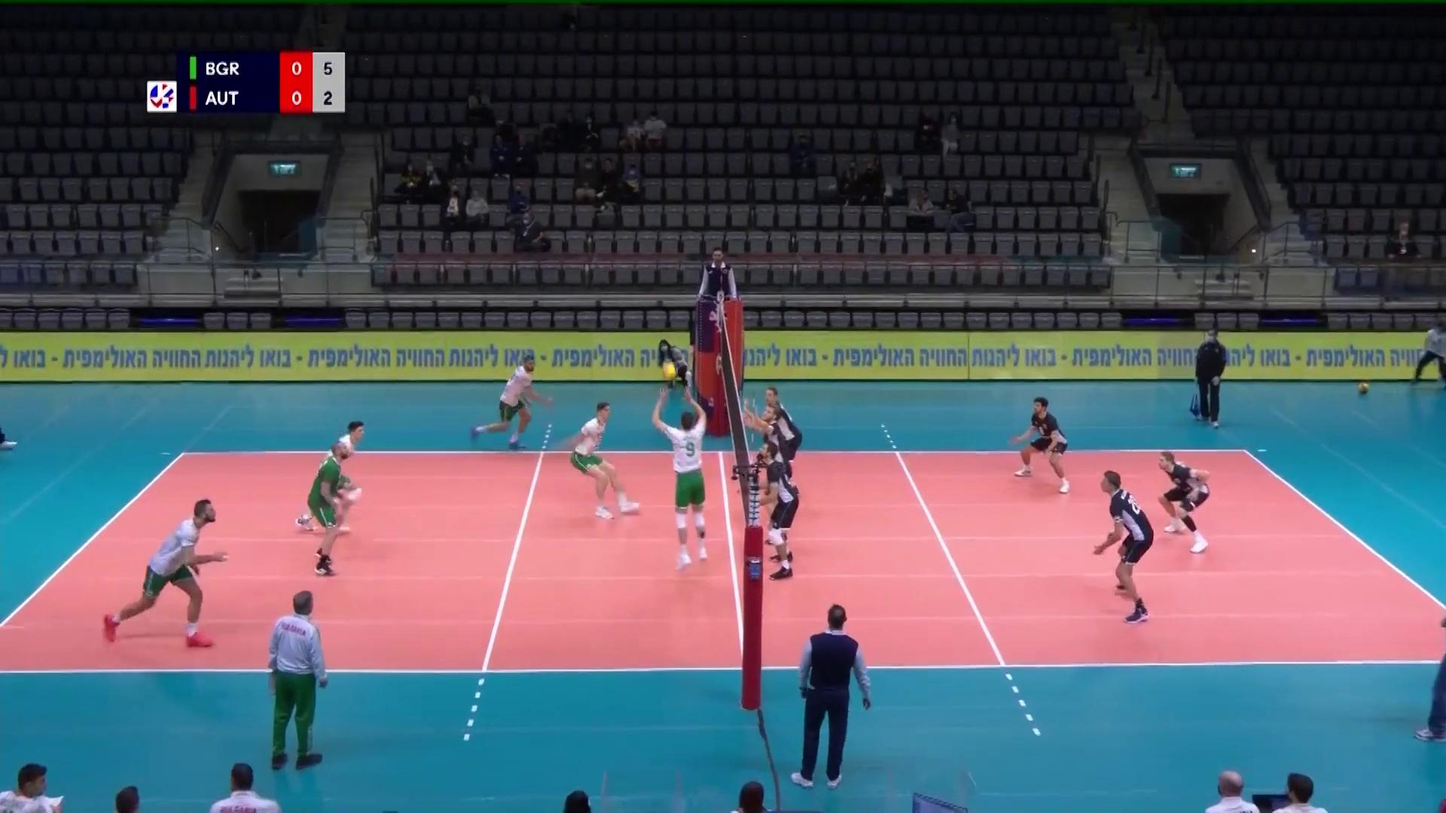ball: (663, 360, 676, 382)
